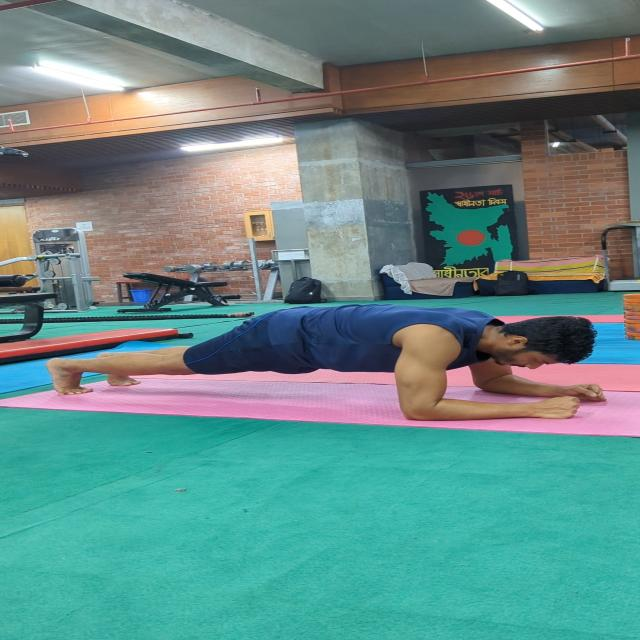Normal_Plunk: (22, 302, 622, 429)
